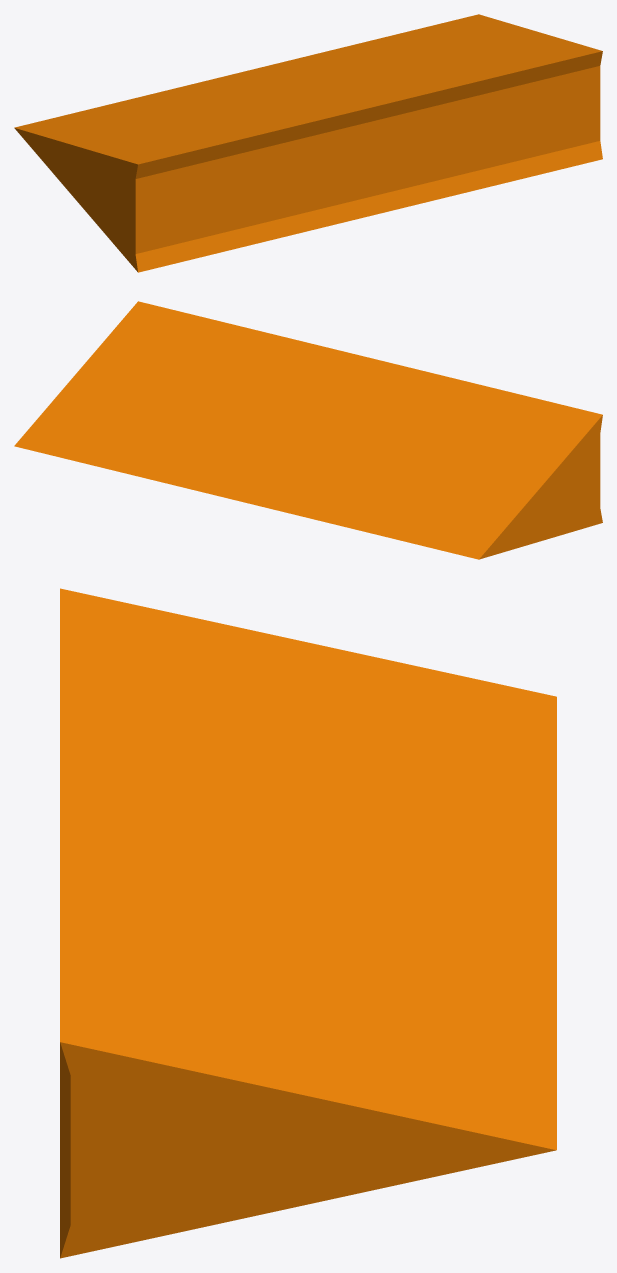
File: Lifter Parts - Fork Collision 3.dae
The picture shows the model from 3 angles, top to bottom: view 1: azimuth 30°, elevation 25°; view 2: azimuth 150°, elevation 25°; view 3: azimuth 270°, elevation 25°; orthographic projection. The views are drawn at different scales.
Parts seen in each view (by area): view 1: ID2; view 2: ID2; view 3: ID2.
Boxes of the visible parts, x1,y1,x2,y2 form: ID2: (14, 14, 602, 272); ID2: (14, 301, 602, 559); ID2: (60, 588, 556, 1258).
Bounding box in the file's own units: 0.0648 × 0.03 × 0.0144.
